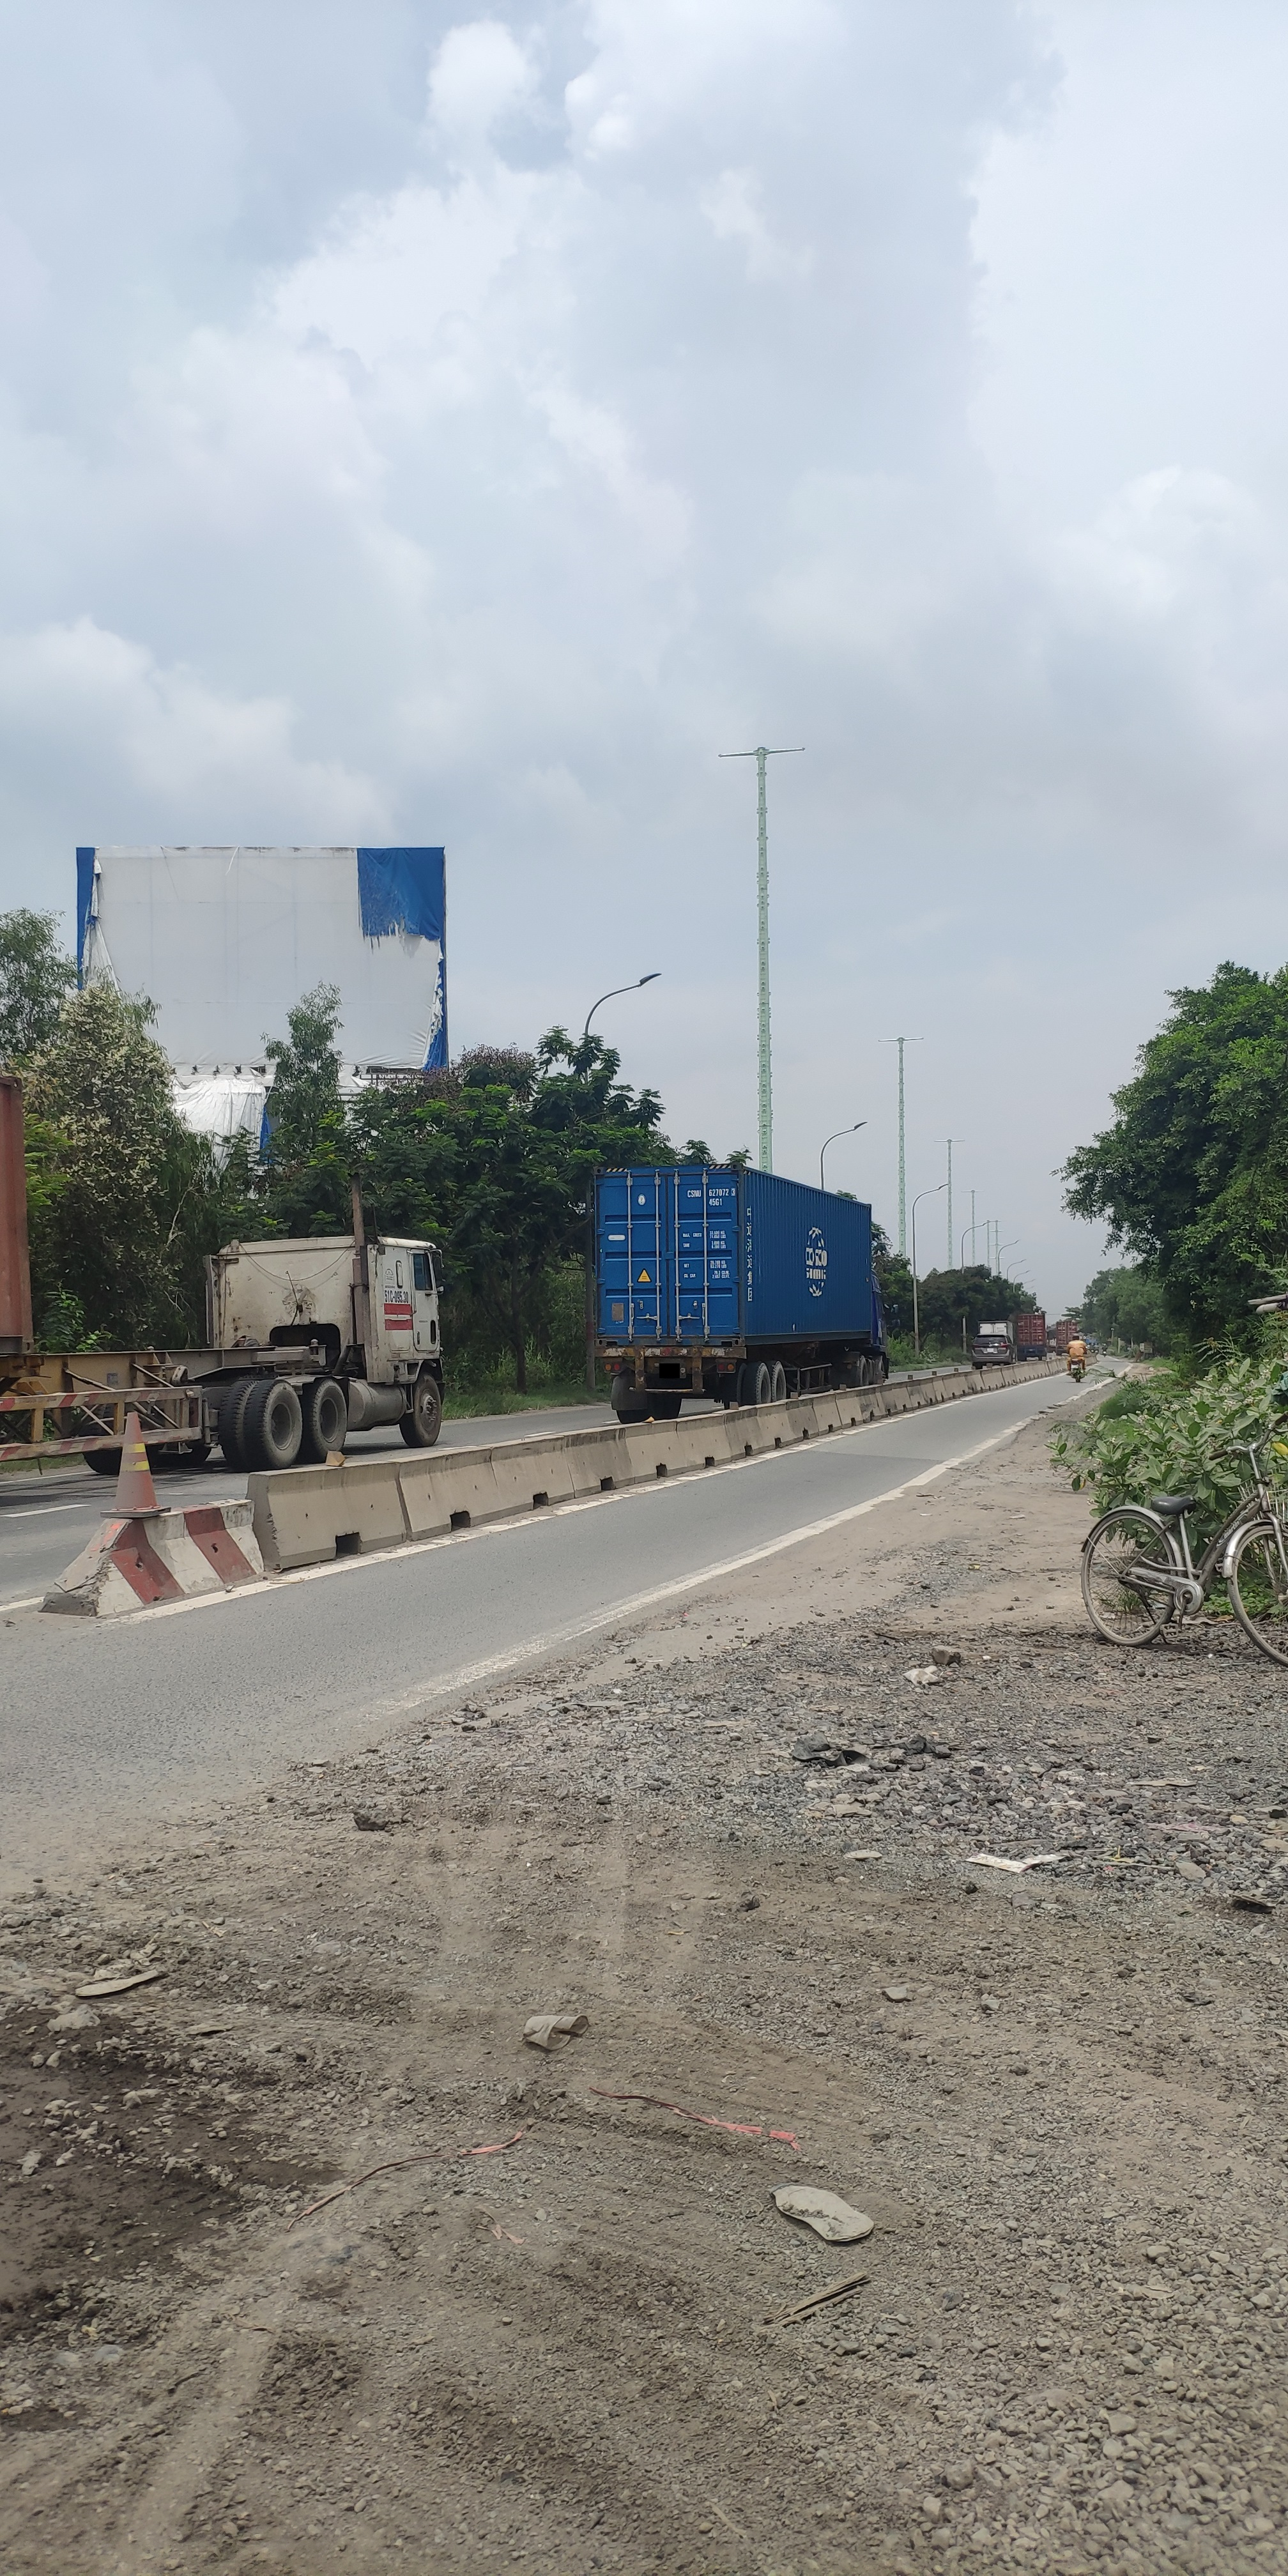hole: (2, 2017, 176, 2333)
